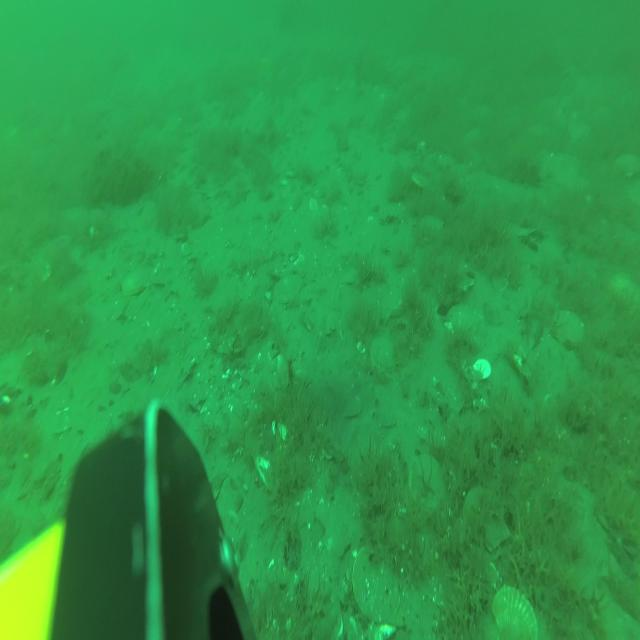scallop: (350, 542, 402, 624), (462, 482, 512, 552), (491, 582, 538, 640), (550, 304, 586, 352), (368, 332, 399, 376), (119, 264, 154, 300), (448, 301, 482, 335), (273, 272, 304, 308), (340, 252, 373, 284), (613, 147, 639, 183), (445, 265, 475, 295)
